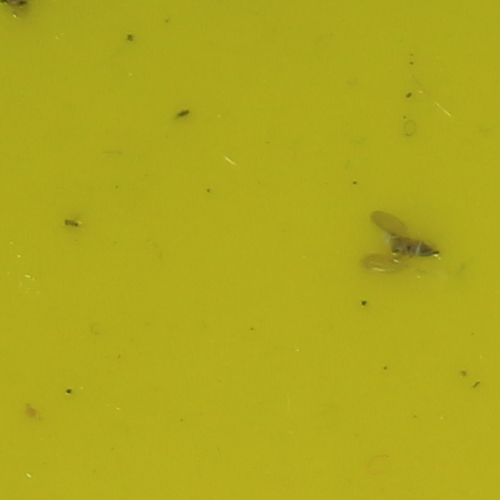psylla: (384, 233, 446, 262)
